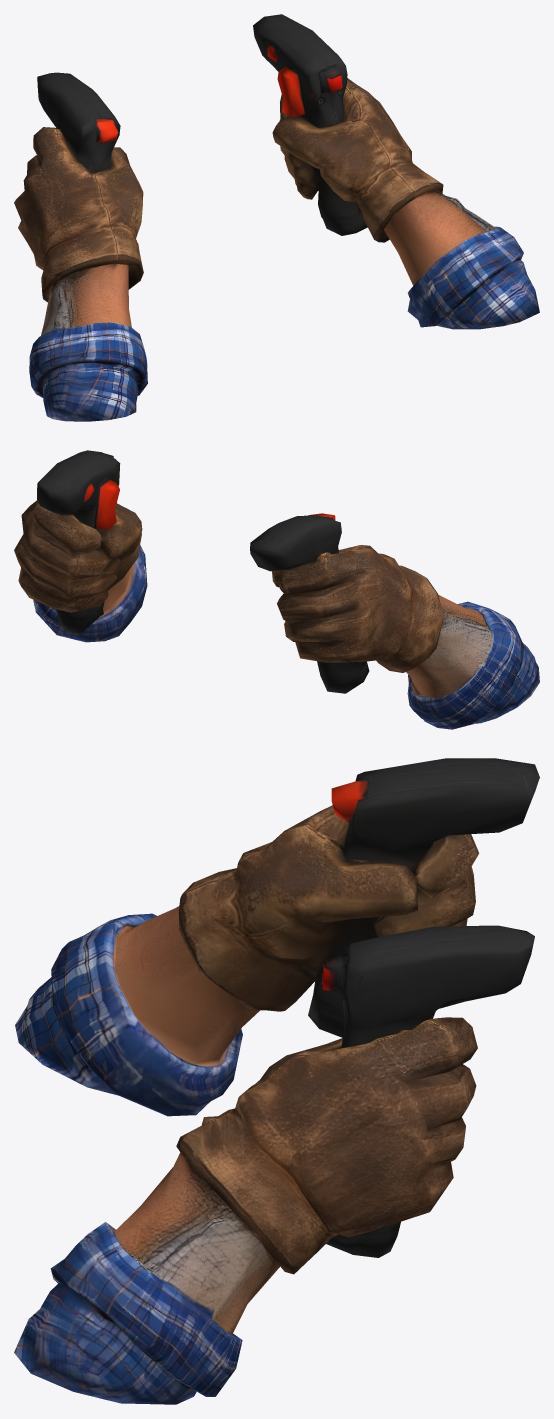
Rendered from eller.glb.
3 renders of one model, top to bottom at view 1: azimuth 30°, elevation 25°; view 2: azimuth 150°, elevation 25°; view 3: azimuth 270°, elevation 25°, orthographic. The views are drawn at different scales.
Parts seen in each view (by area): view 1: tripo_node_f7a0215e-75c5-4eb7-ae17-2d2c4e03cd8a; view 2: tripo_node_f7a0215e-75c5-4eb7-ae17-2d2c4e03cd8a; view 3: tripo_node_f7a0215e-75c5-4eb7-ae17-2d2c4e03cd8a.
Boxes of the visible parts, <box> form: tripo_node_f7a0215e-75c5-4eb7-ae17-2d2c4e03cd8a: <box>14,14,539,421</box>; tripo_node_f7a0215e-75c5-4eb7-ae17-2d2c4e03cd8a: <box>14,450,539,729</box>; tripo_node_f7a0215e-75c5-4eb7-ae17-2d2c4e03cd8a: <box>14,758,539,1404</box>.
Bounding box in the file's own units: 0.9792 × 0.4791 × 0.5707.
Materials: 1 (1 with a texture image).
